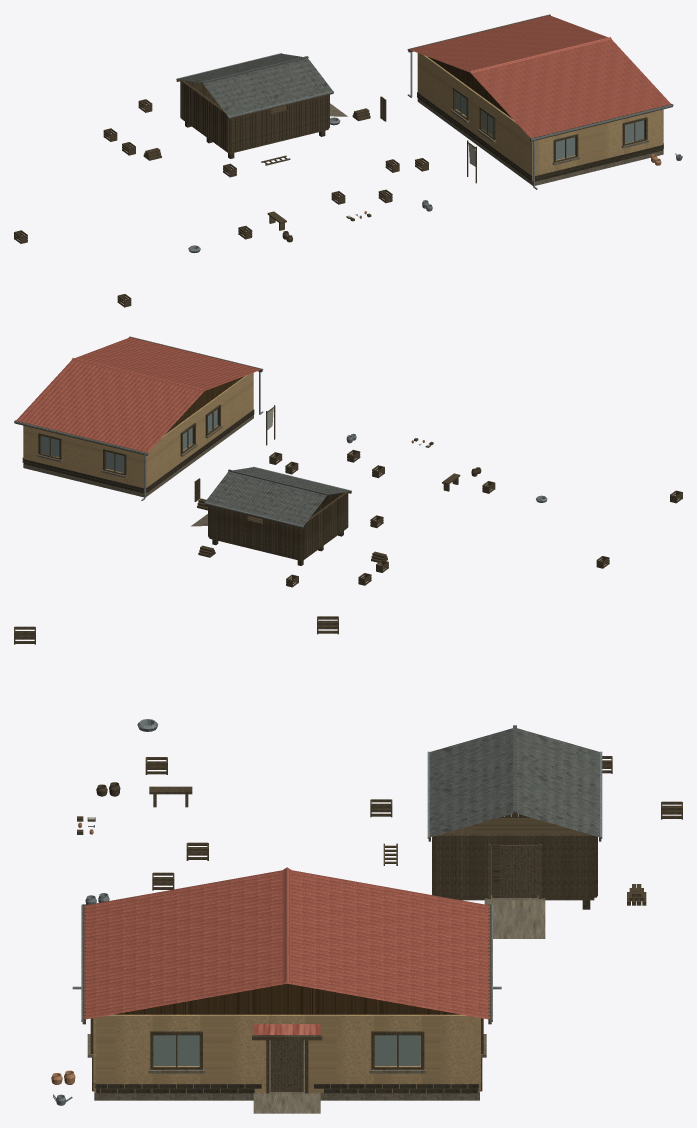
The picture shows the model from 3 angles, top to bottom: view 1: azimuth 30°, elevation 25°; view 2: azimuth 150°, elevation 25°; view 3: azimuth 270°, elevation 25°; orthographic projection. The views are drawn at different scales.
Visible parts, largest first — view 1: H18_TELHAS, H18_PAIOL_COBERTURA, H18_FUNDOS, H18_PAIOL_LATERAL, H18_LATERAIS, H18_PAIOL_MATA_JUNTAS, H18_PAIOL_FUNDOS, H18_EMBASAMENTO_PEDRA, H18_FUNDACAO, H18_VIDROS_RECUADOS, H18_CAIXILHOS, H18_OITOES (+3 smaller); view 2: H18_TELHAS, H18_PAIOL_COBERTURA, H18_FUNDOS, H18_PAIOL_LATERAL, H18_LATERAIS, H18_PAIOL_MATA_JUNTAS, H18_PAIOL_FUNDOS, H18_EMBASAMENTO_PEDRA, H18_FUNDACAO, H18_VIDROS_RECUADOS, H18_CAIXILHOS, H18_OITOES (+3 smaller); view 3: H18_TELHAS, H18_FACHADA, H18_PAIOL_COBERTURA, H18_PAIOL_FRENTE, H18_OITOES, H18_EMBASAMENTO_PEDRA, H18_FUNDACAO, H18_VIDROS_RECUADOS, H18_PAIOL_ASSOALHO, H18_PAIOL_PORTA_FOLHA, H18_PAIOL_RAMPA, H18_PAIOL_MATA_JUNTAS (+7 smaller).
Boxes of the visible parts, x1,y1,x2,y2 form: H18_TELHAS: (410,15,670,137); H18_PAIOL_COBERTURA: (177,53,332,116); H18_FUNDOS: (417,53,533,180); H18_PAIOL_LATERAL: (185,80,329,152); H18_LATERAIS: (535,109,662,175); H18_PAIOL_MATA_JUNTAS: (180,81,327,152); H18_PAIOL_FUNDOS: (180,80,229,152); H18_EMBASAMENTO_PEDRA: (417,92,663,181); H18_FUNDACAO: (417,98,663,185); H18_VIDROS_RECUADOS: (456,92,644,159); H18_CAIXILHOS: (453,87,647,162); H18_OITOES: (428,57,512,118); H18_TELHAS: (16,337,260,452); H18_PAIOL_COBERTURA: (205,467,350,525); H18_FUNDOS: (145,373,253,492); H18_PAIOL_LATERAL: (208,492,343,559); H18_LATERAIS: (24,426,143,487); H18_PAIOL_MATA_JUNTAS: (209,492,347,559); H18_PAIOL_FUNDOS: (302,492,348,559); H18_EMBASAMENTO_PEDRA: (22,409,254,493); H18_FUNDACAO: (23,415,253,497); H18_VIDROS_RECUADOS: (41,409,217,472); H18_CAIXILHOS: (38,404,220,475); H18_OITOES: (164,376,244,434); H18_TELHAS: (84,870,489,1019); H18_FACHADA: (96,1014,477,1092); H18_PAIOL_COBERTURA: (429,728,599,837); H18_PAIOL_FRENTE: (435,834,594,898); H18_OITOES: (114,983,459,1014); H18_EMBASAMENTO_PEDRA: (92,1057,482,1093); H18_FUNDACAO: (94,1035,479,1100); H18_VIDROS_RECUADOS: (153,1035,420,1065); H18_PAIOL_ASSOALHO: (443,817,594,900); H18_PAIOL_PORTA_FOLHA: (492,845,537,897); H18_PAIOL_RAMPA: (484,900,545,938); H18_PAIOL_MATA_JUNTAS: (432,836,597,898).
Bounding box in the file's own units: 35.91 × 4.28 × 21.05.
Materials: 14 (11 with a texture image).
